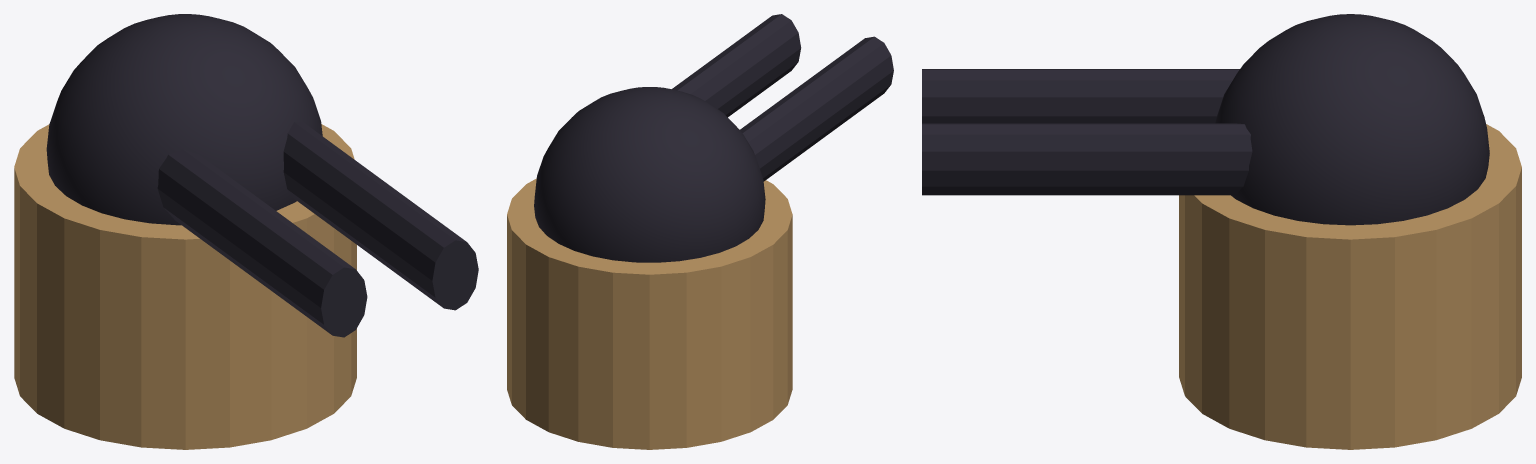
Rendered from SM_Keeper_Sobek_Turretm10p9.fbx.
3 renders of one model, left to right at view 1: azimuth 30°, elevation 25°; view 2: azimuth 150°, elevation 25°; view 3: azimuth 270°, elevation 25°, orthographic. The views are drawn at different scales.
Parts seen in each view (by area): view 1: SM_Keeper_Sobek_Turretm10p9; view 2: SM_Keeper_Sobek_Turretm10p9; view 3: SM_Keeper_Sobek_Turretm10p9.
Boxes of the visible parts, x1,y1,x2,y2 form: SM_Keeper_Sobek_Turretm10p9: (14,14,478,449); SM_Keeper_Sobek_Turretm10p9: (507,14,893,449); SM_Keeper_Sobek_Turretm10p9: (922,14,1521,449).
Bounding box in the file's own units: 2.46 × 2.78 × 4.31.
